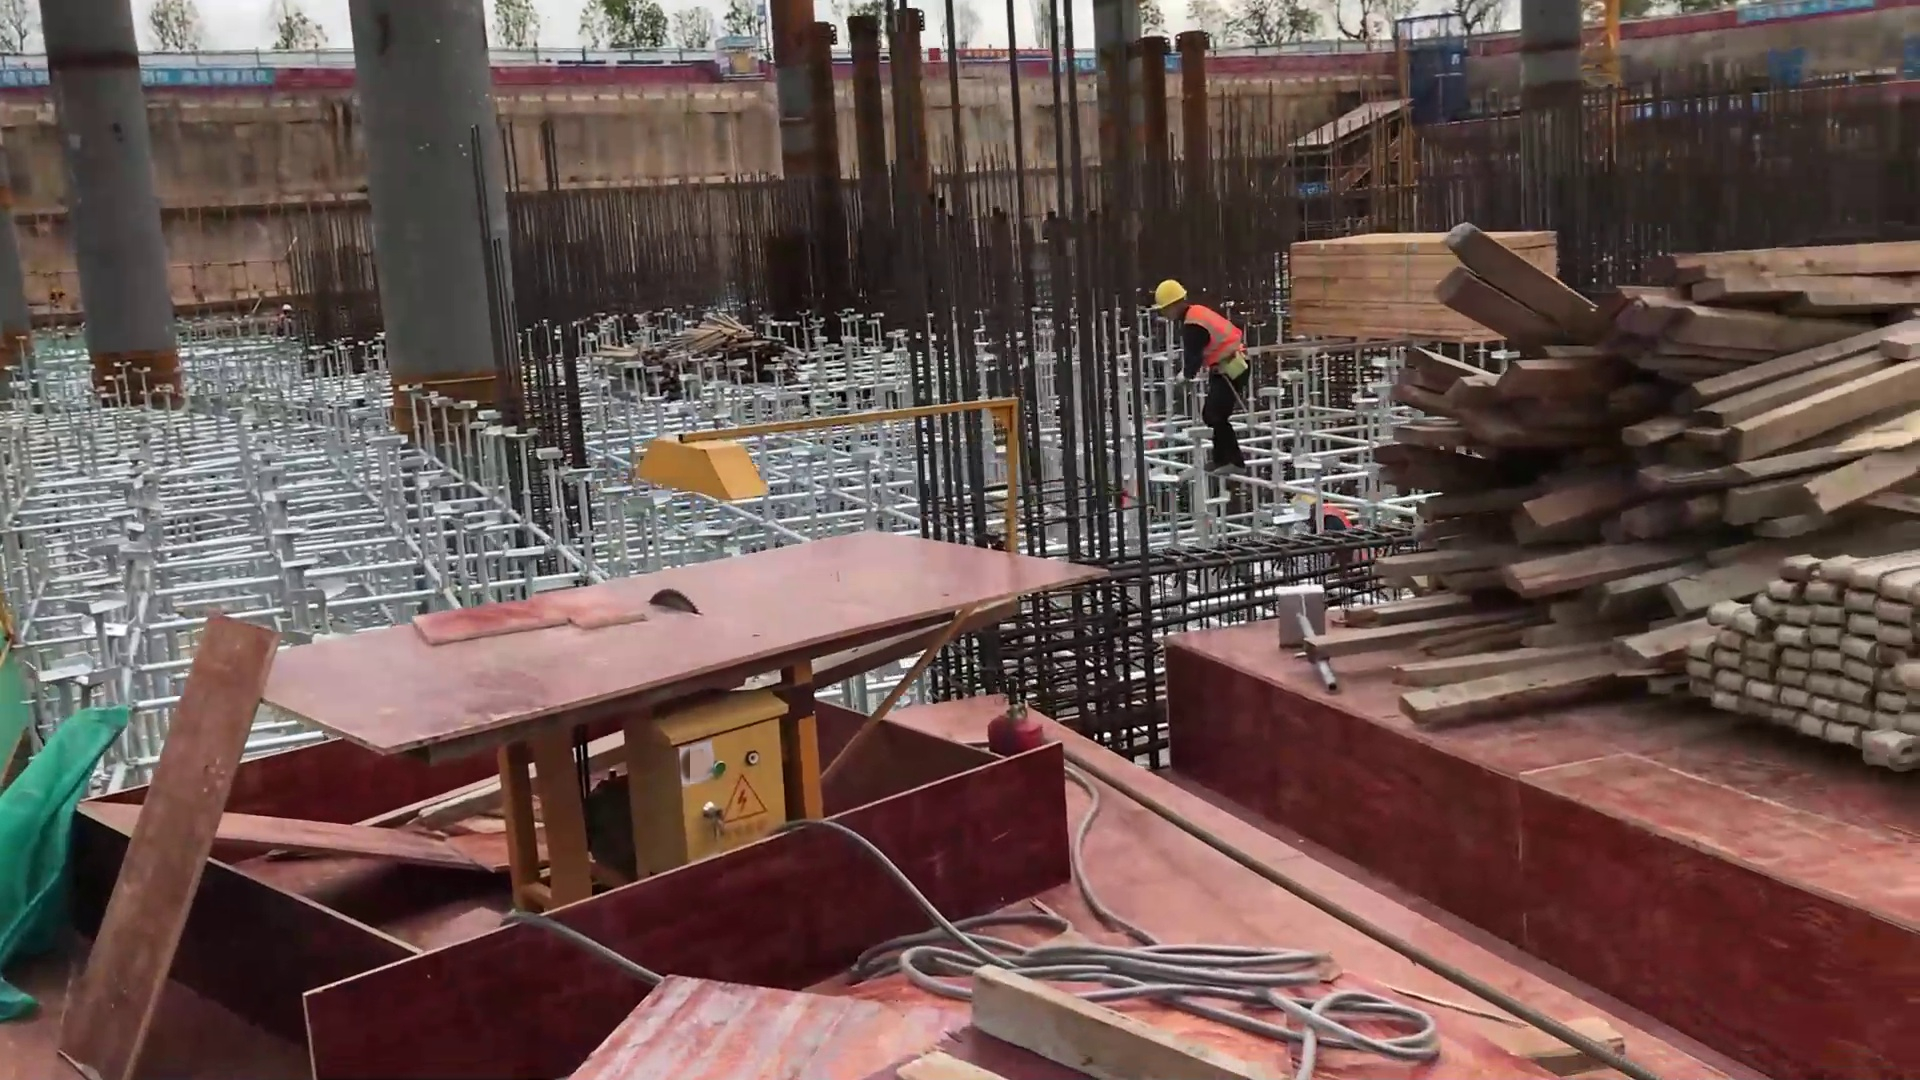cutter: (379, 372, 1033, 912)
ebox: (629, 709, 819, 831)
helmet: (1153, 270, 1185, 315), (1279, 486, 1320, 516)
person: (1159, 290, 1243, 480), (1292, 483, 1363, 560)
vest: (1185, 314, 1257, 355), (1320, 507, 1349, 543)
wood: (1423, 222, 1893, 769), (1294, 227, 1541, 356)
